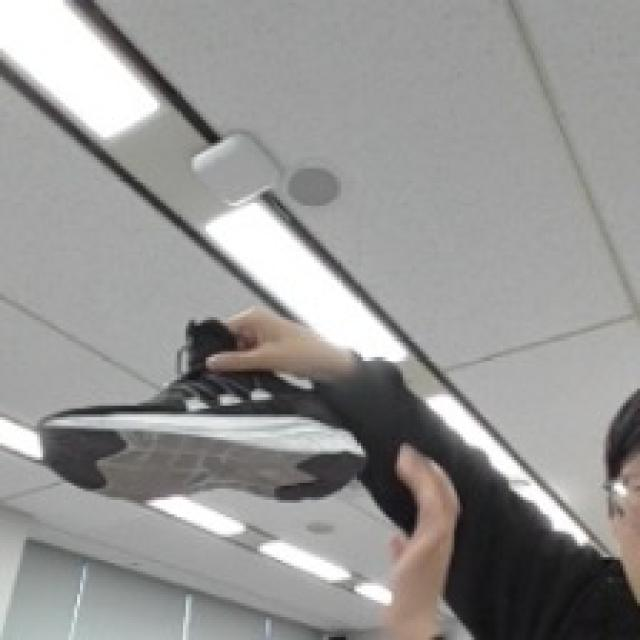shoes: (24, 292, 395, 546)
